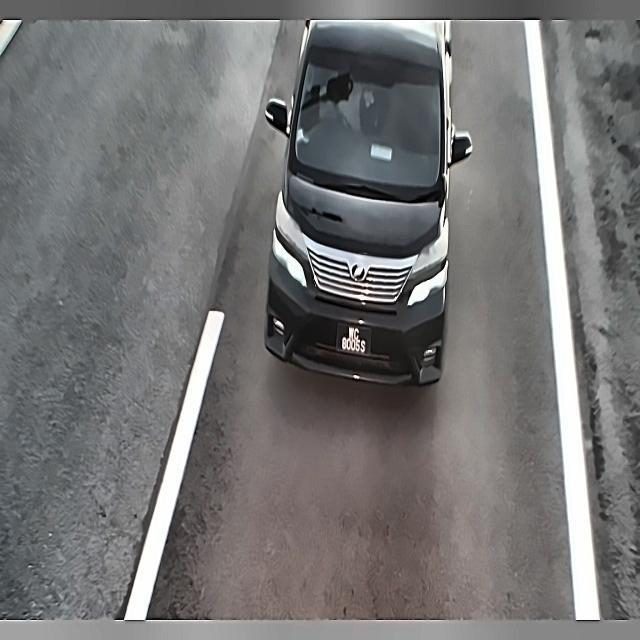car: (334, 321, 376, 367)
